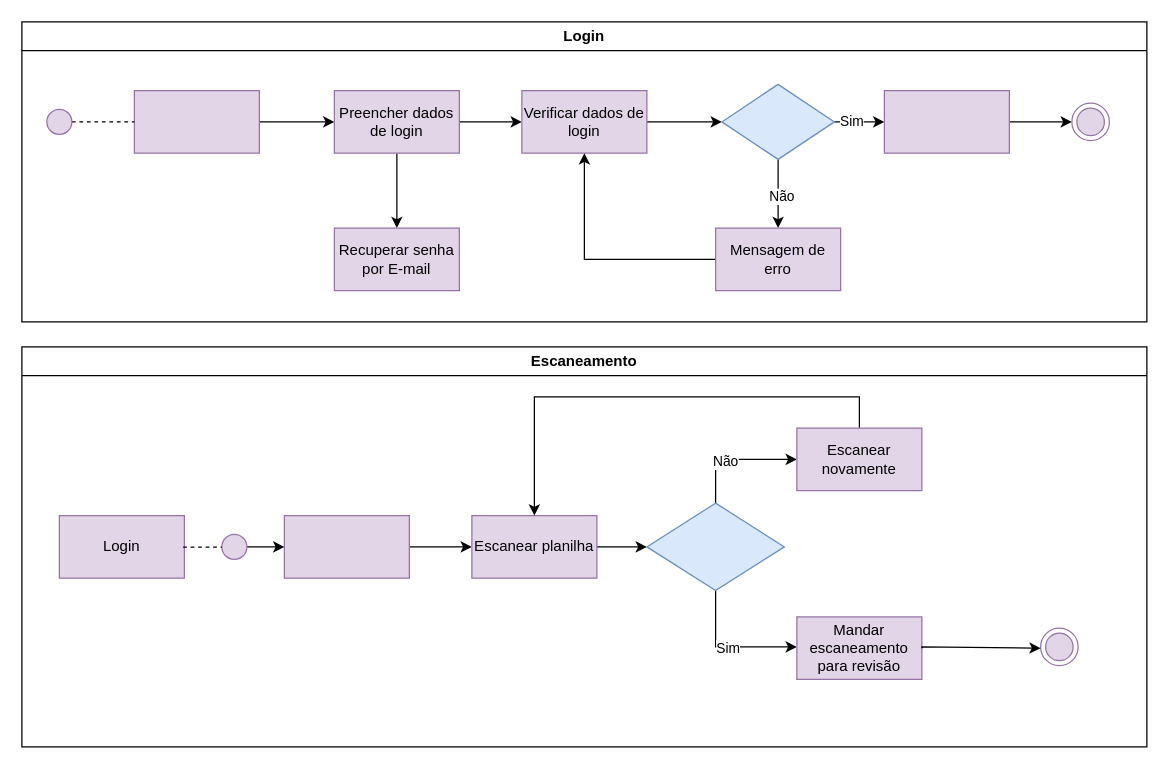
This 1169x769 diagram has some shape labels left out. Each missing label, with the centre of its shape:
Acesso concedido: point 946,121
Dados válidos?: point 777,121
Entrar no aplicativo: point 196,121
Escaneamento ocorreu bem?: point 715,546
Selecionar planilha: point 346,546
